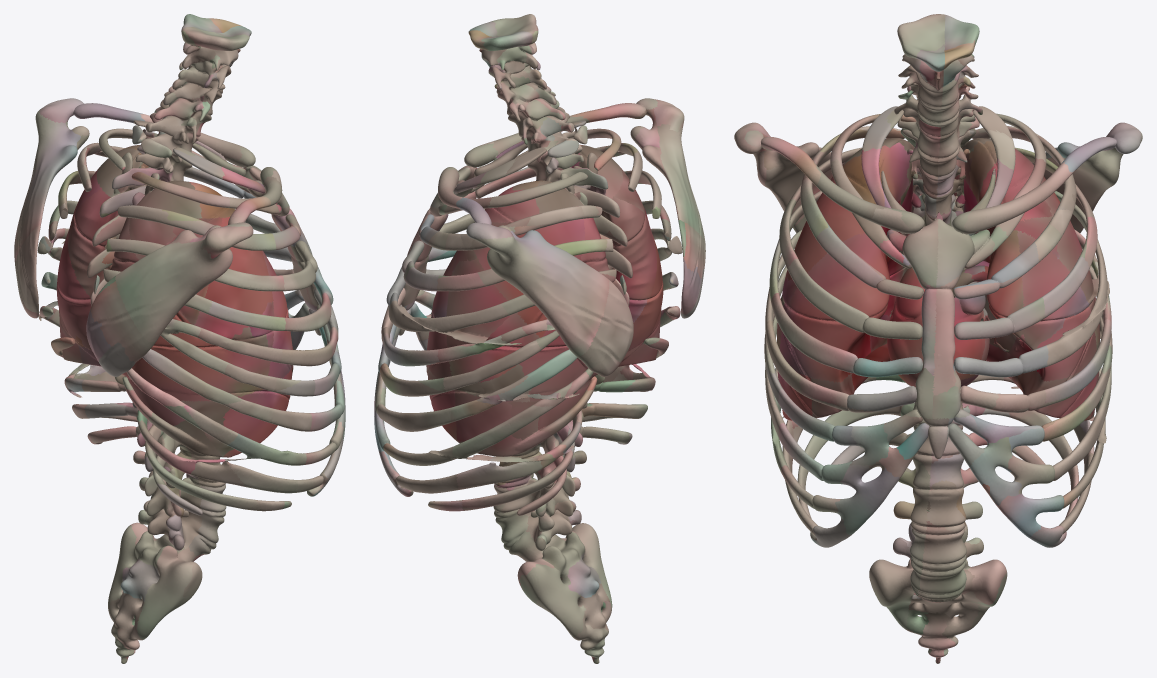
The model's file is rib-cage-heart_compressed.glb.
The picture shows the model from 3 angles, left to right: view 1: azimuth 30°, elevation 25°; view 2: azimuth 150°, elevation 25°; view 3: azimuth 270°, elevation 25°; orthographic projection. The views are drawn at different scales.
Visible parts, largest first — view 1: tripo_node_5f693c29-9724-40e3-98b9-fcafcb9c47f8; view 2: tripo_node_5f693c29-9724-40e3-98b9-fcafcb9c47f8; view 3: tripo_node_5f693c29-9724-40e3-98b9-fcafcb9c47f8.
Part boxes in pixels (x1=…): tripo_node_5f693c29-9724-40e3-98b9-fcafcb9c47f8: x1=14, y1=14, x2=345, y2=663; tripo_node_5f693c29-9724-40e3-98b9-fcafcb9c47f8: x1=374, y1=14, x2=705, y2=663; tripo_node_5f693c29-9724-40e3-98b9-fcafcb9c47f8: x1=734, y1=14, x2=1142, y2=663.
Size of the model in its own units: 0.4462 by 0.9997 by 0.5417.
Materials: 1 (1 with a texture image).
